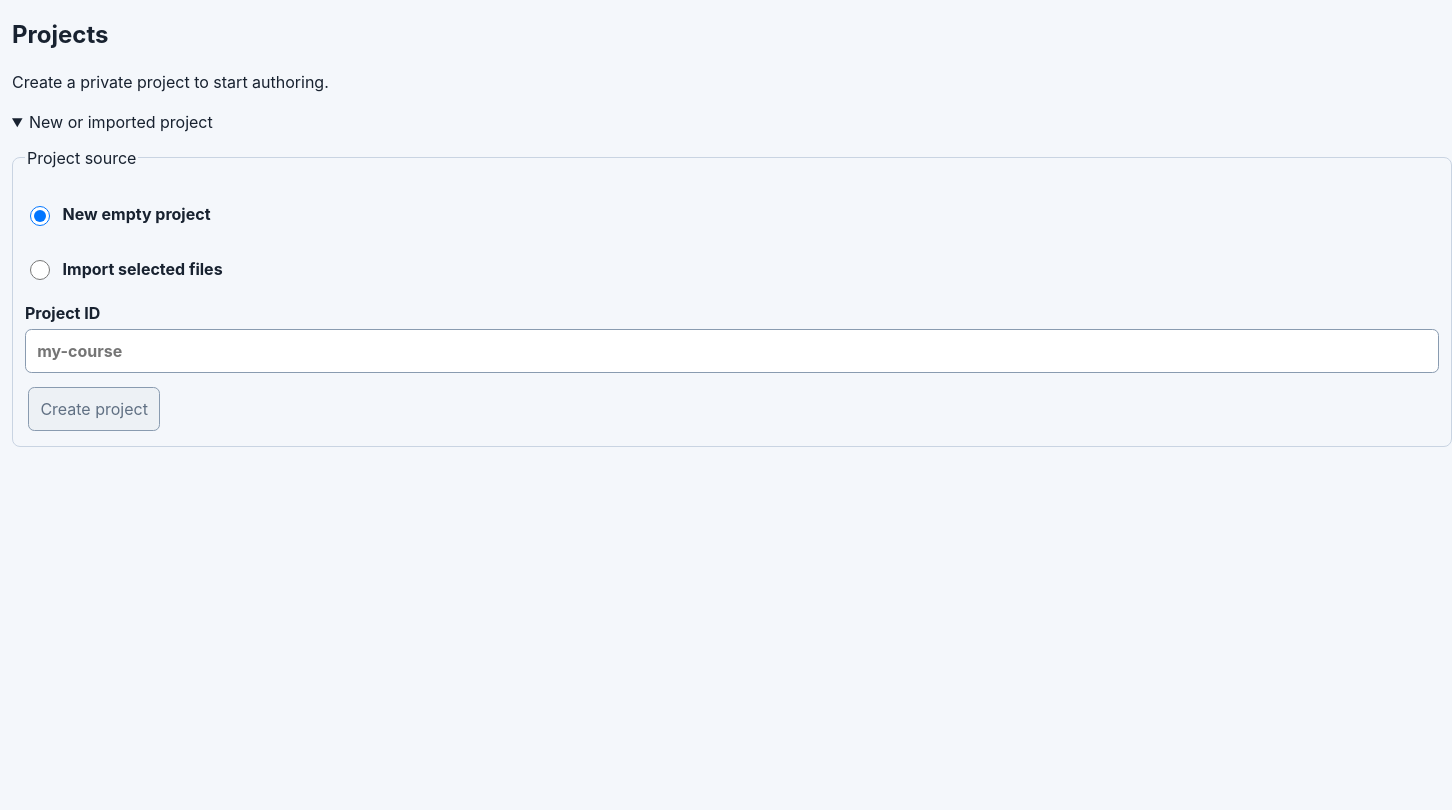
Test: imports only reviewed selected files and invalidates an edited directory
Click the radio button labelled "Import selected files" at {"x": 40, "y": 270}, box x1=30 y1=260 x2=50 y2=280
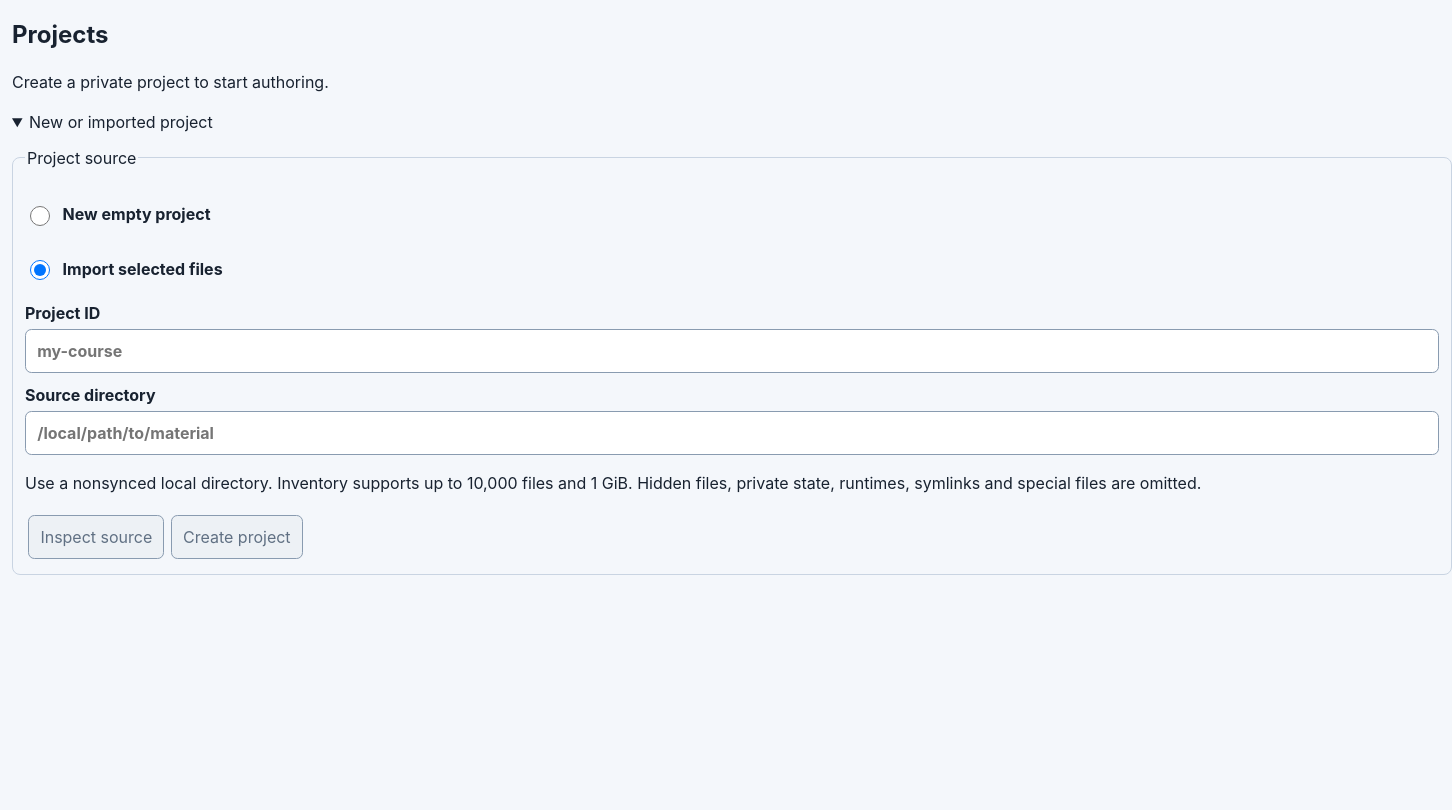
Type "new-course" into the field labelled "Project ID" at {"x": 732, "y": 351}, box x1=25 y1=329 x2=1439 y2=373
Type "/local/source" into the field labelled "Source directory" at {"x": 732, "y": 433}, box x1=25 y1=411 x2=1439 y2=455
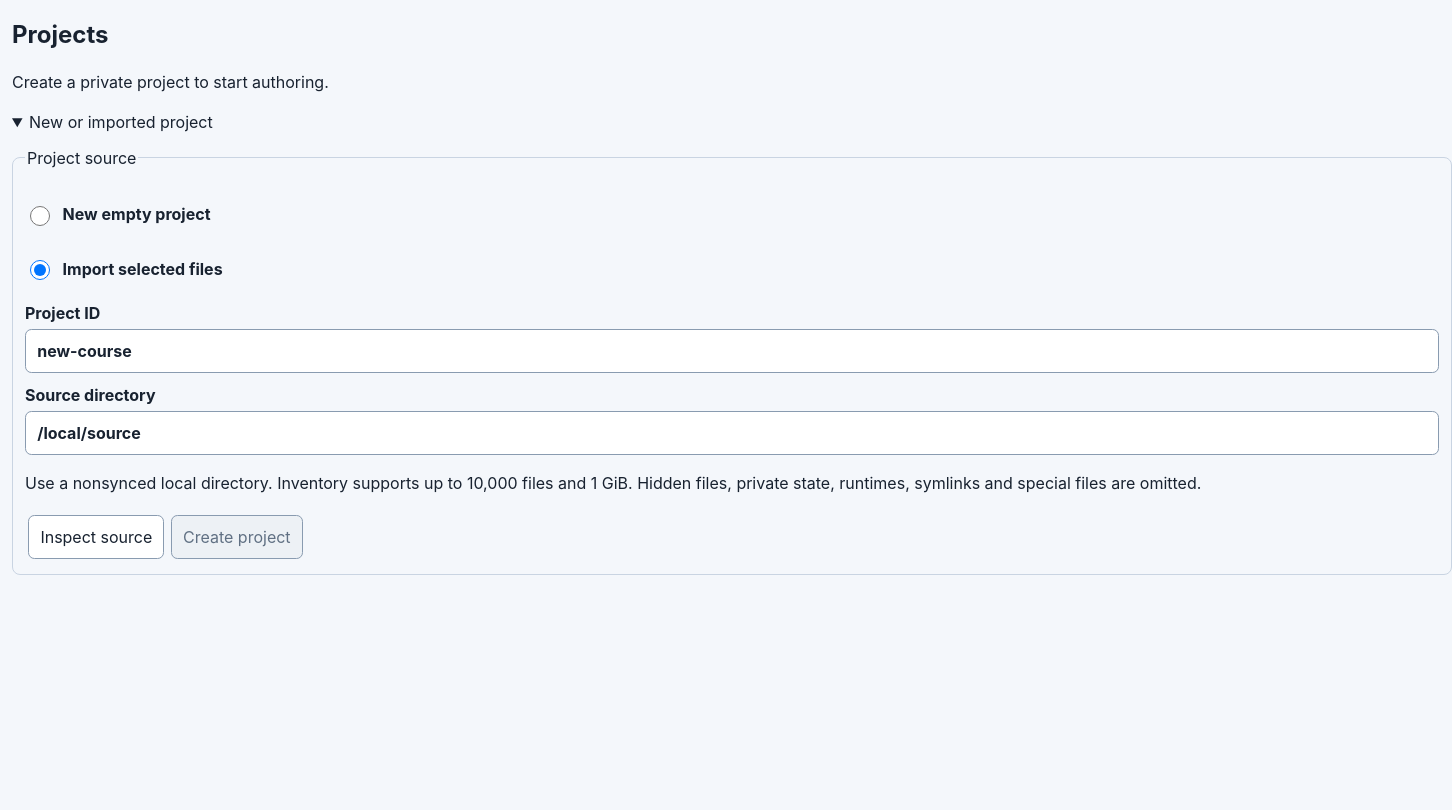
Expected: the button "Create project" is disabled, x1=171 y1=515 x2=303 y2=559
Click the button "Inspect source" at {"x": 96, "y": 537}, box x1=28 y1=515 x2=164 y2=559
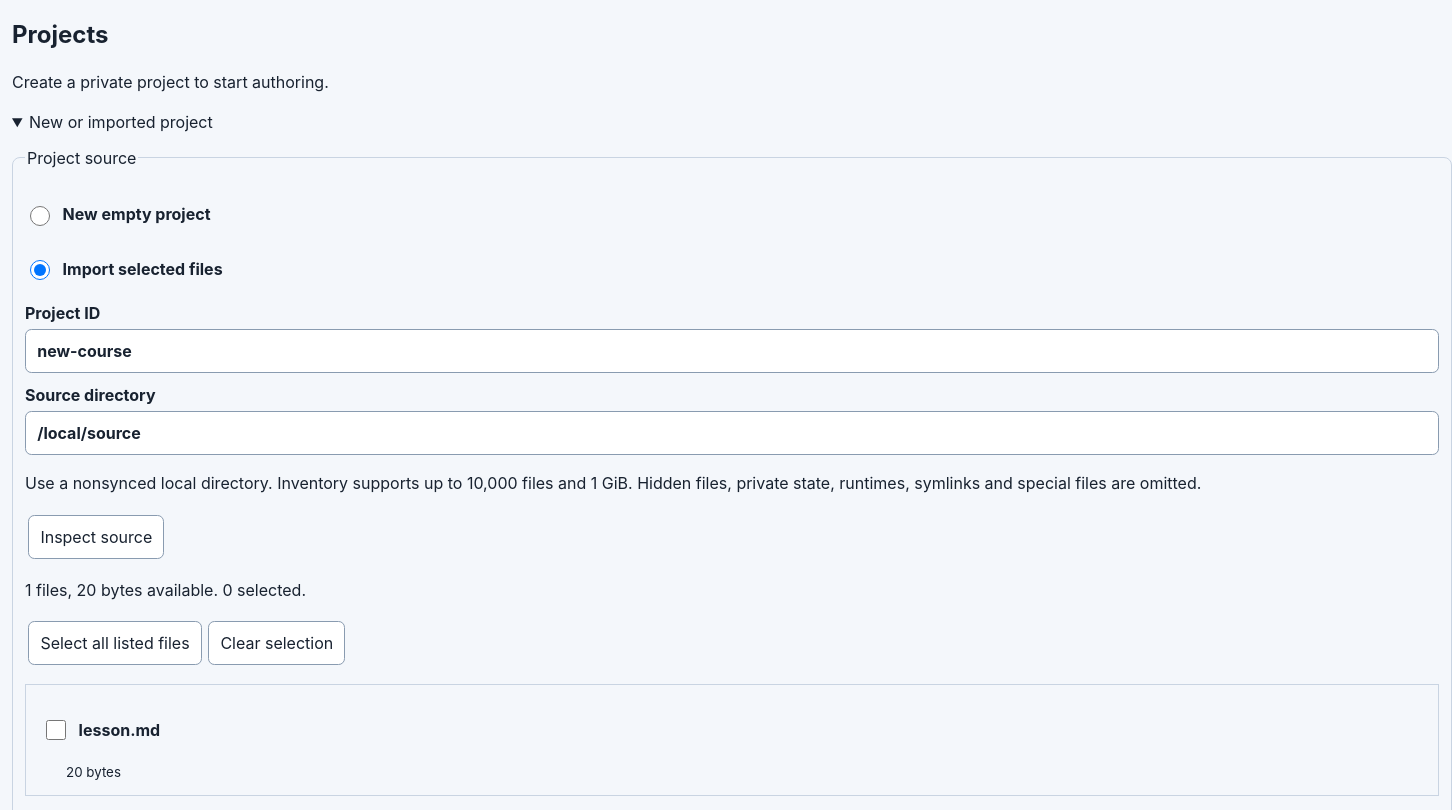
Result: the checkbox labelled "lesson.md" is not checked
Click the checkbox labelled "lesson.md" at {"x": 56, "y": 730}, box x1=46 y1=720 x2=66 y2=740
(page scrolled)
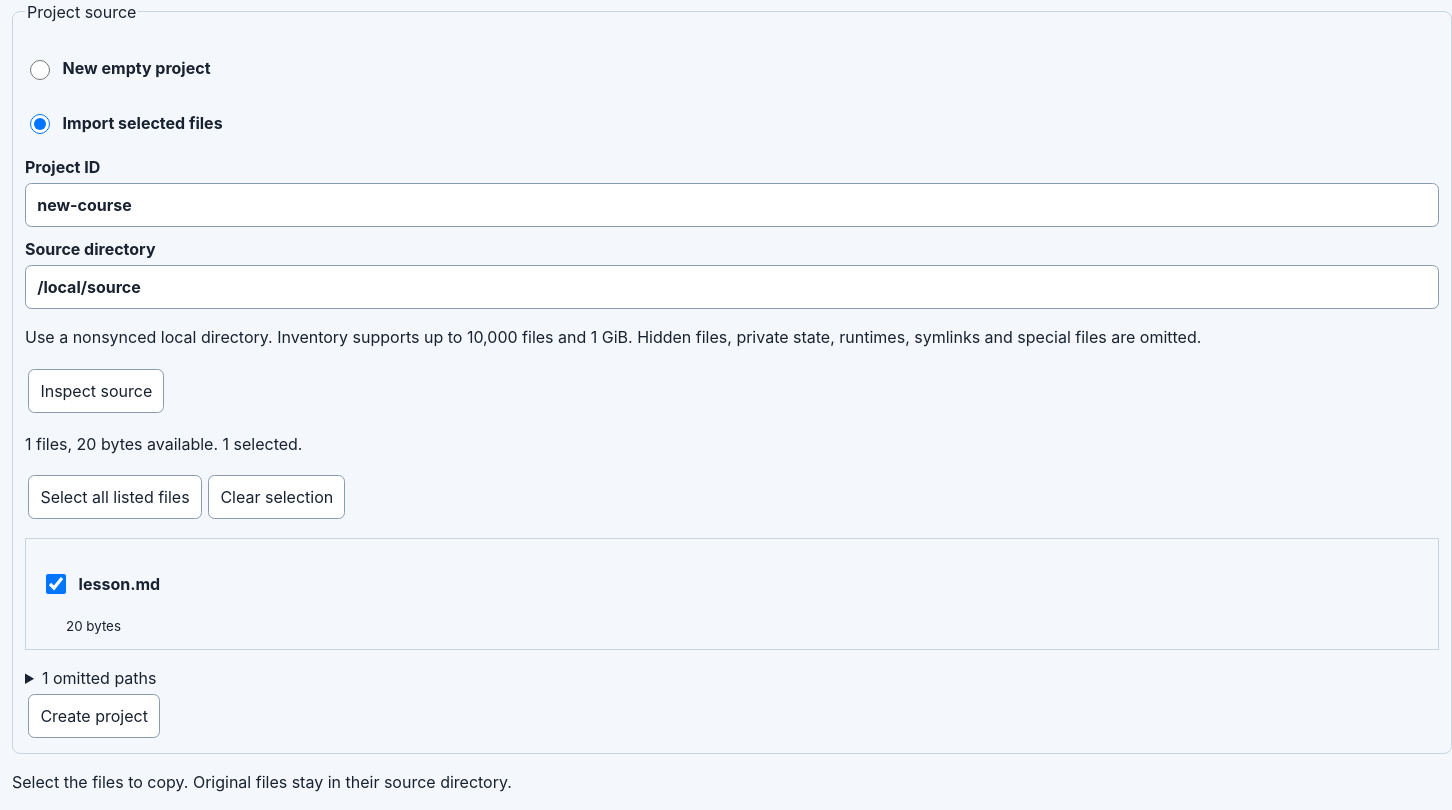
Click the button "Create project" at {"x": 94, "y": 716}, box x1=28 y1=694 x2=160 y2=738
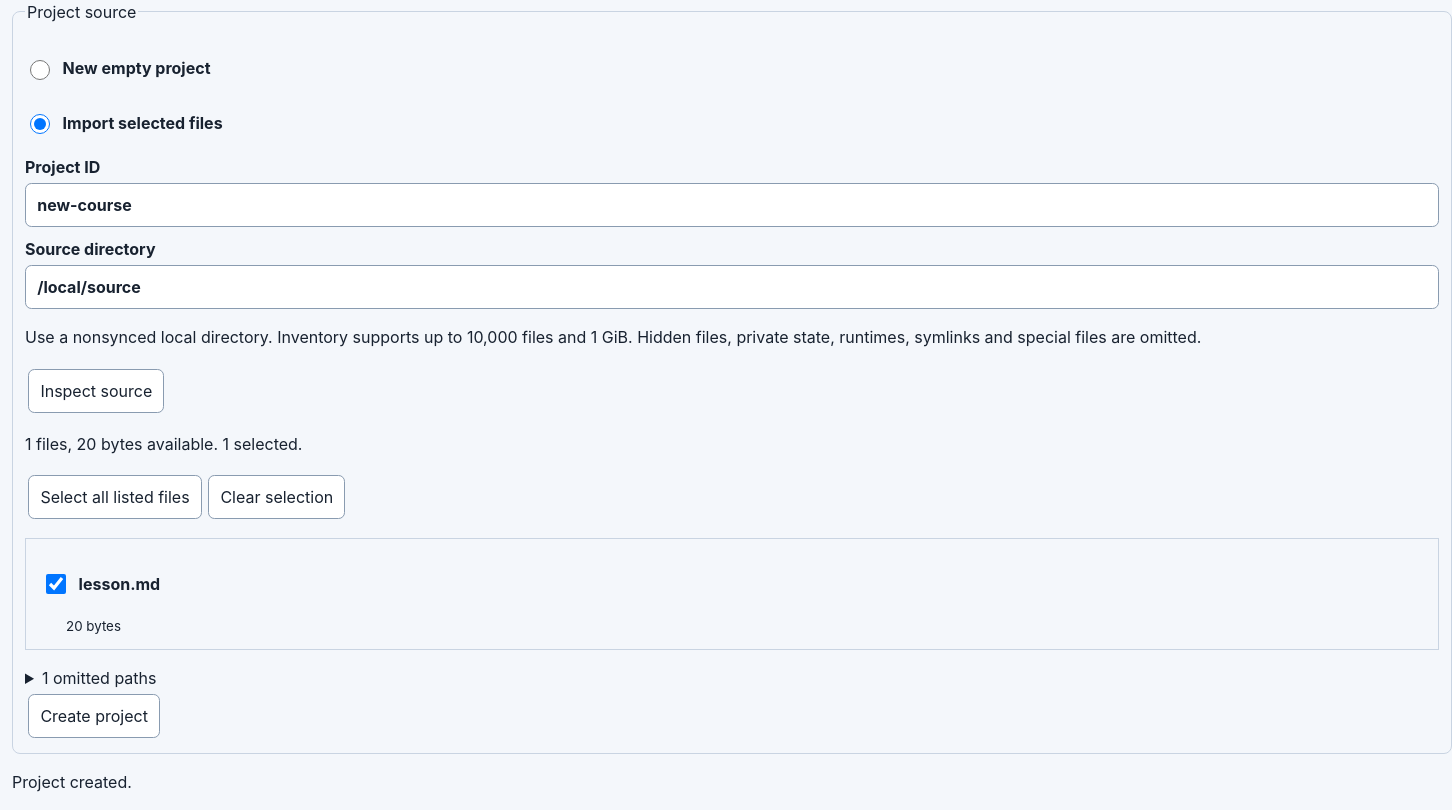
Result: the text "Project created." is shown at x1=12 y1=772 x2=132 y2=792
Replace the text in the field labelled "Source directory" with "/local/other" at {"x": 732, "y": 287}, box x1=25 y1=265 x2=1439 y2=309
(page scrolled)
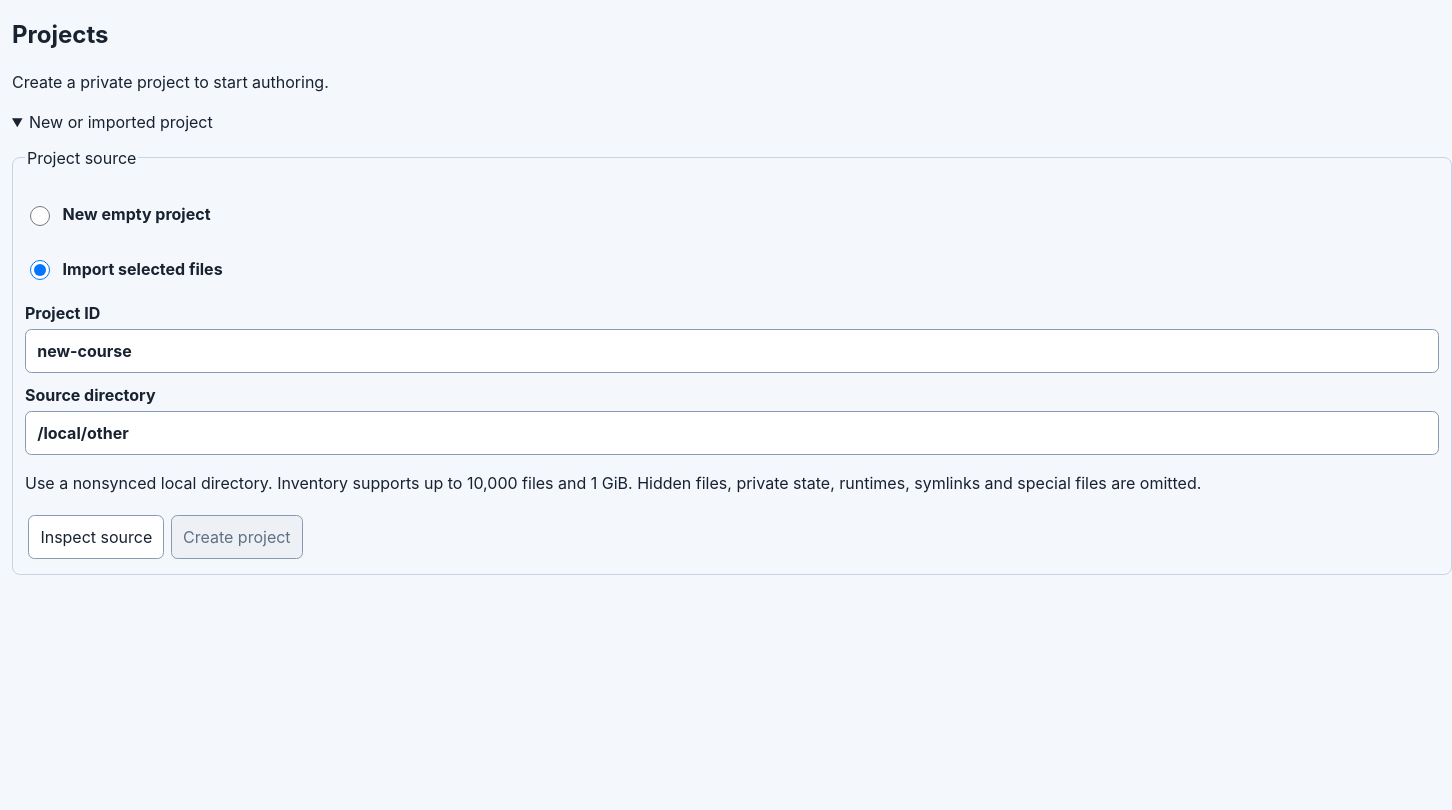
Result: the label labelled "lesson.md" is gone
Result: the button "Create project" is disabled at x1=171 y1=515 x2=303 y2=559
